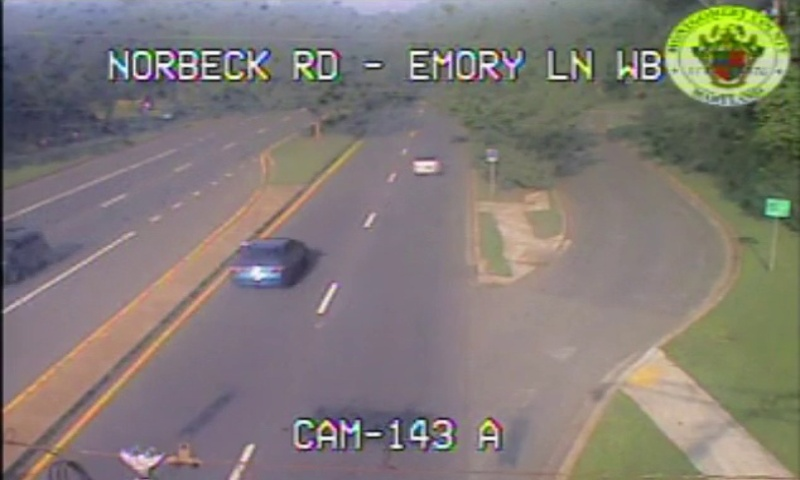car: (228, 237, 305, 287), (410, 156, 442, 175)
